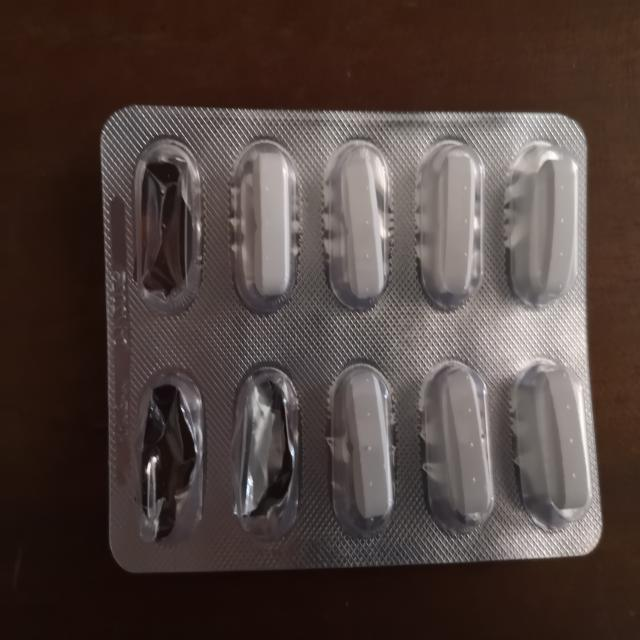Empty: (123, 360, 208, 552), (222, 357, 308, 545), (127, 131, 210, 322)
Pill: (502, 353, 600, 530), (414, 353, 500, 533), (320, 355, 402, 541), (317, 134, 399, 311), (225, 134, 303, 320), (502, 134, 582, 313), (409, 131, 482, 313)
